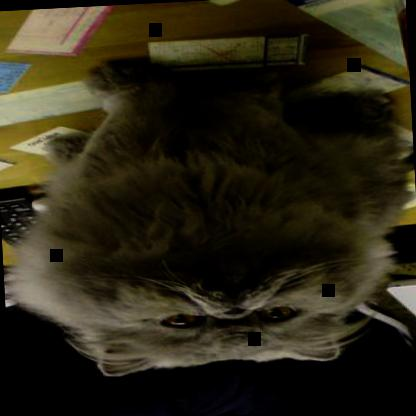cat: (5, 45, 412, 384)
